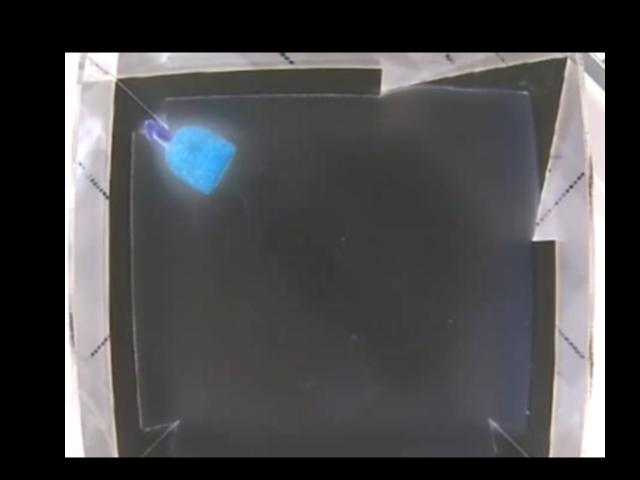Carrot: (140, 115, 234, 196)
